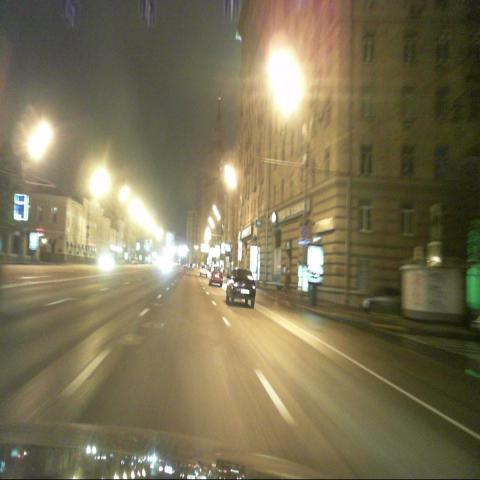5_15_2: (223, 0, 238, 24)
